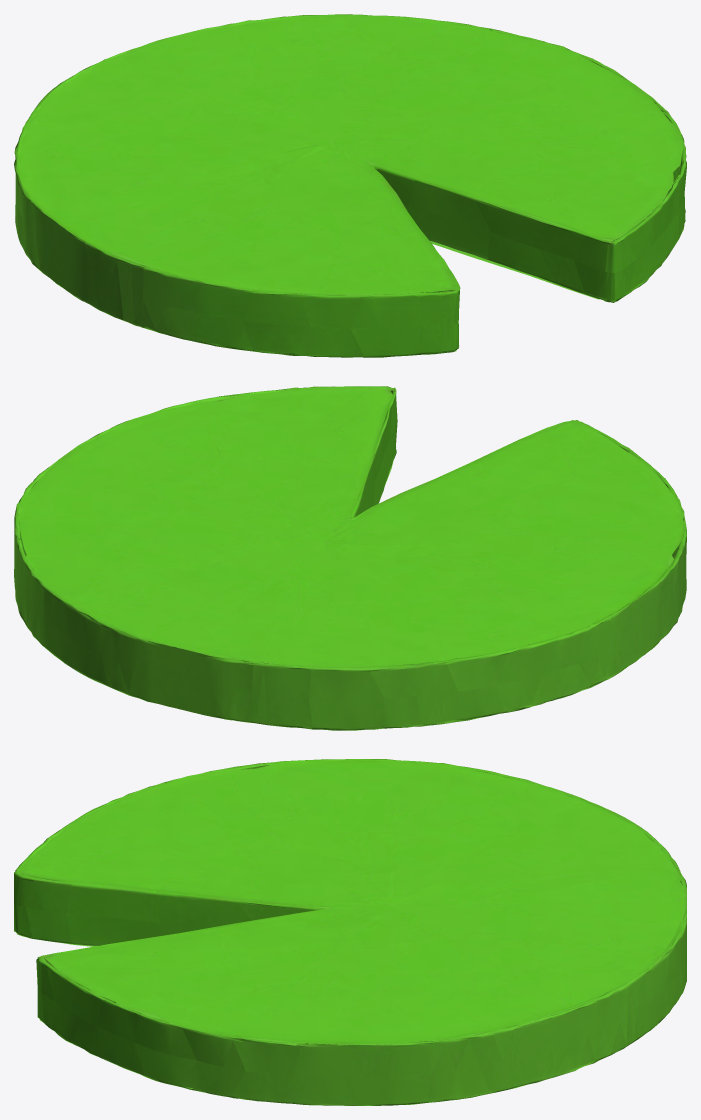
Rendered from lilypad.glb.
3 views of the same model, one above another, from view 1: azimuth 30°, elevation 25°; view 2: azimuth 150°, elevation 25°; view 3: azimuth 270°, elevation 25° (orthographic).
Bounding box in the file's own units: 1 × 0.105 × 1.
1 material, 1 textured.
